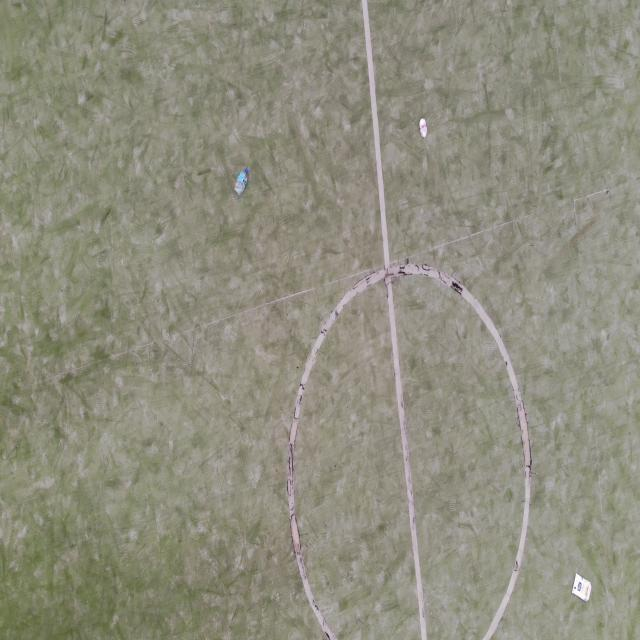rubbish: (572, 575, 593, 603), (232, 166, 249, 199), (419, 118, 427, 137)
